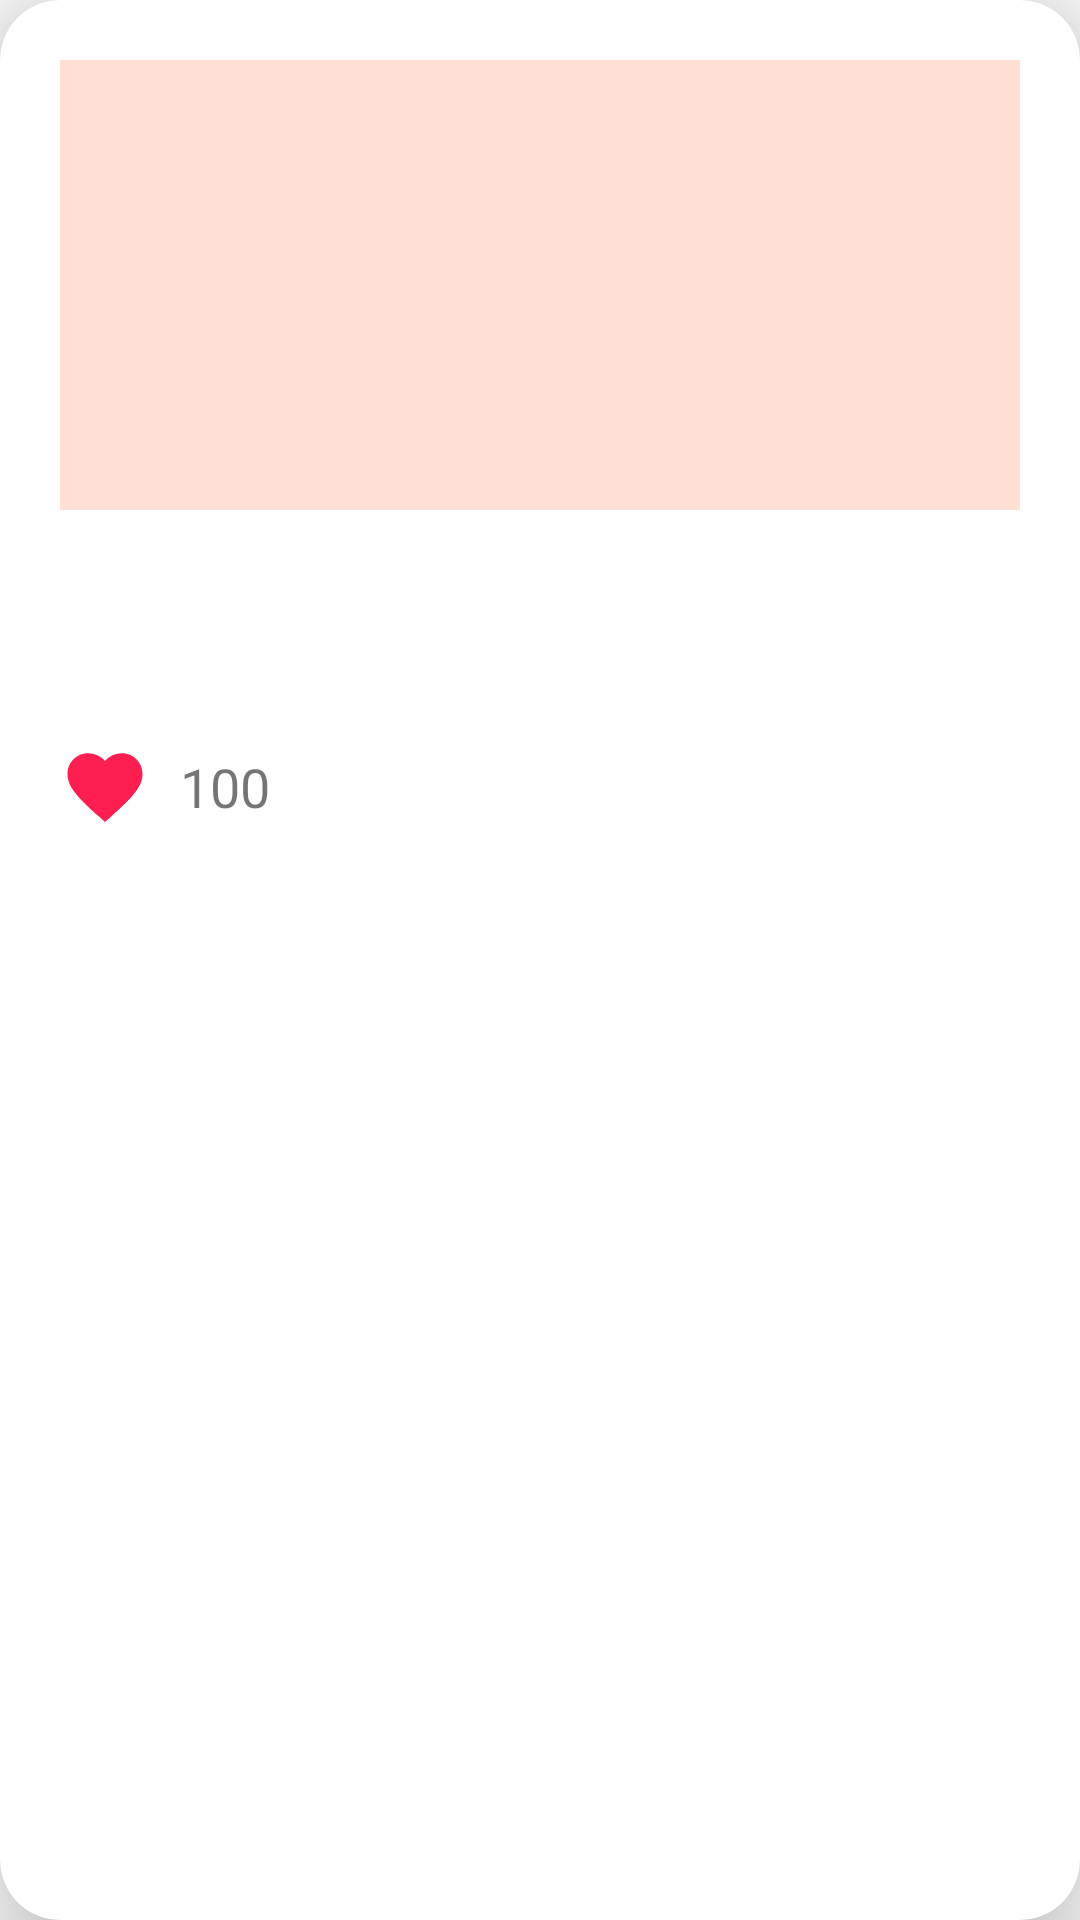

Locate icon controls on the screen. Image size 1080px×1920px, boxes as (x1, y1, x2, y2).
like: (67, 753, 143, 822)
